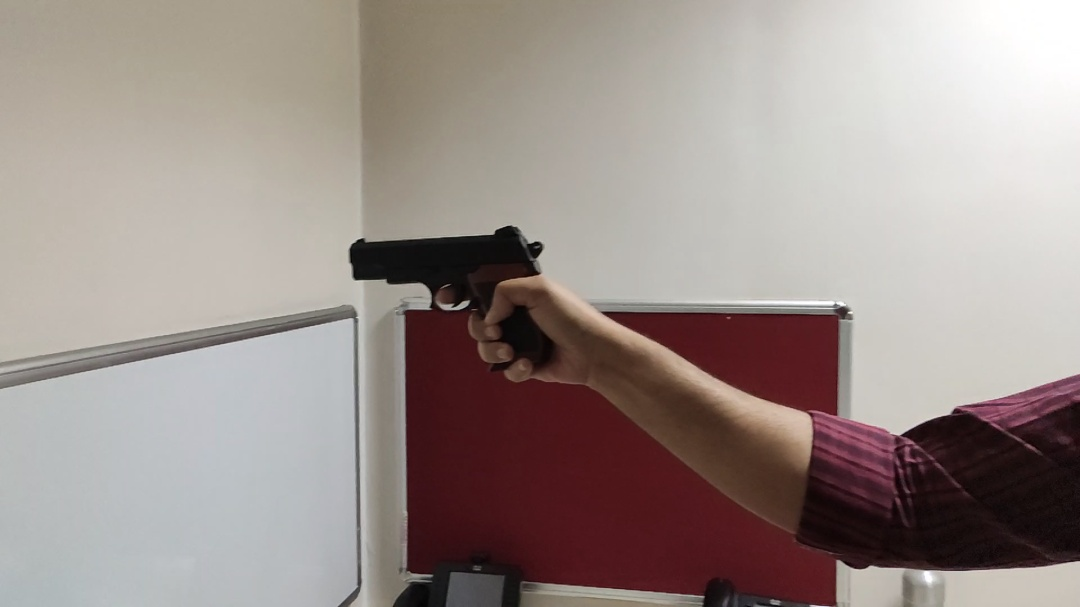gun: (348, 224, 562, 375)
